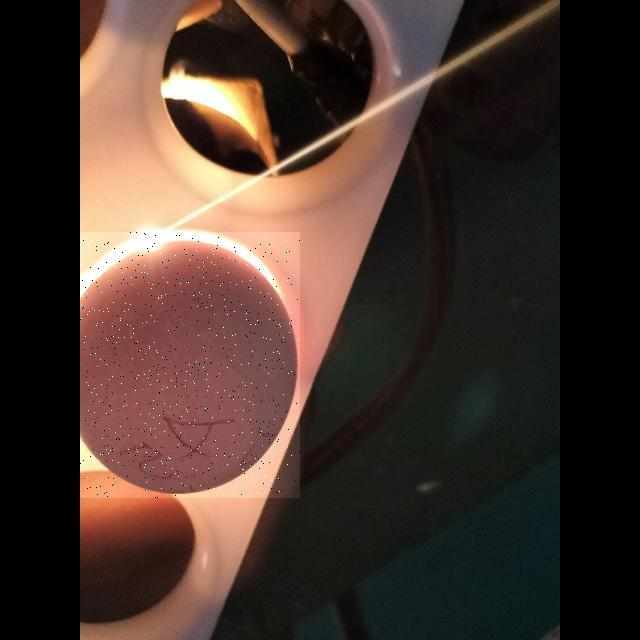B - Fair: (80, 232, 300, 498)
